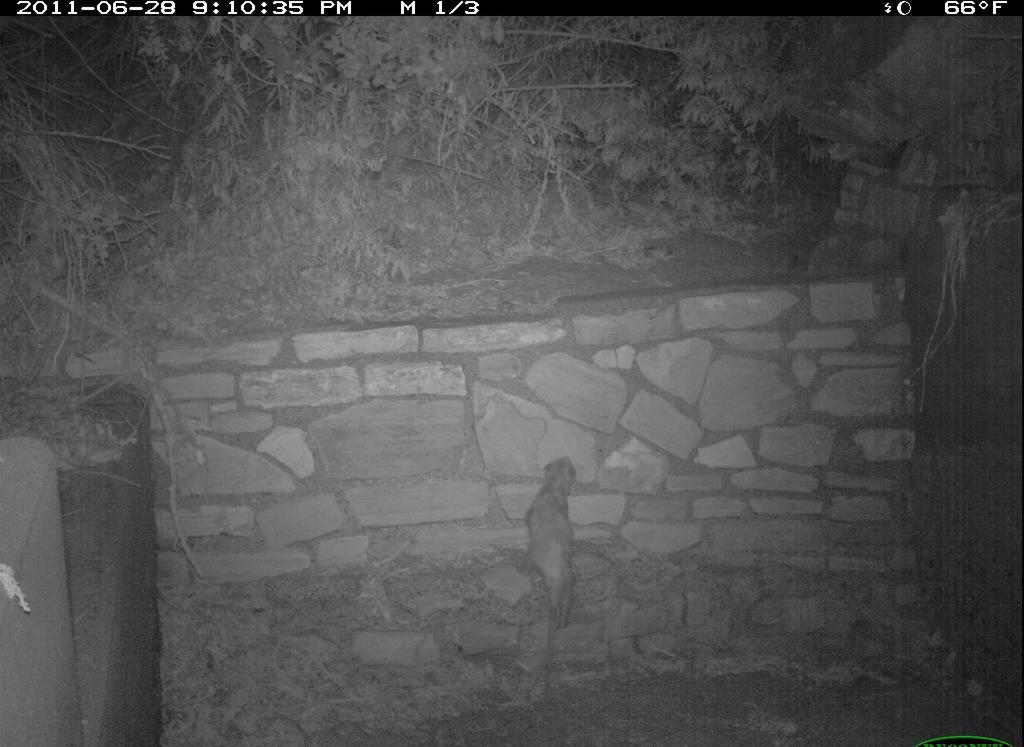opossum: (518, 439, 594, 640)
